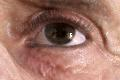eye: (44, 22, 74, 43)
